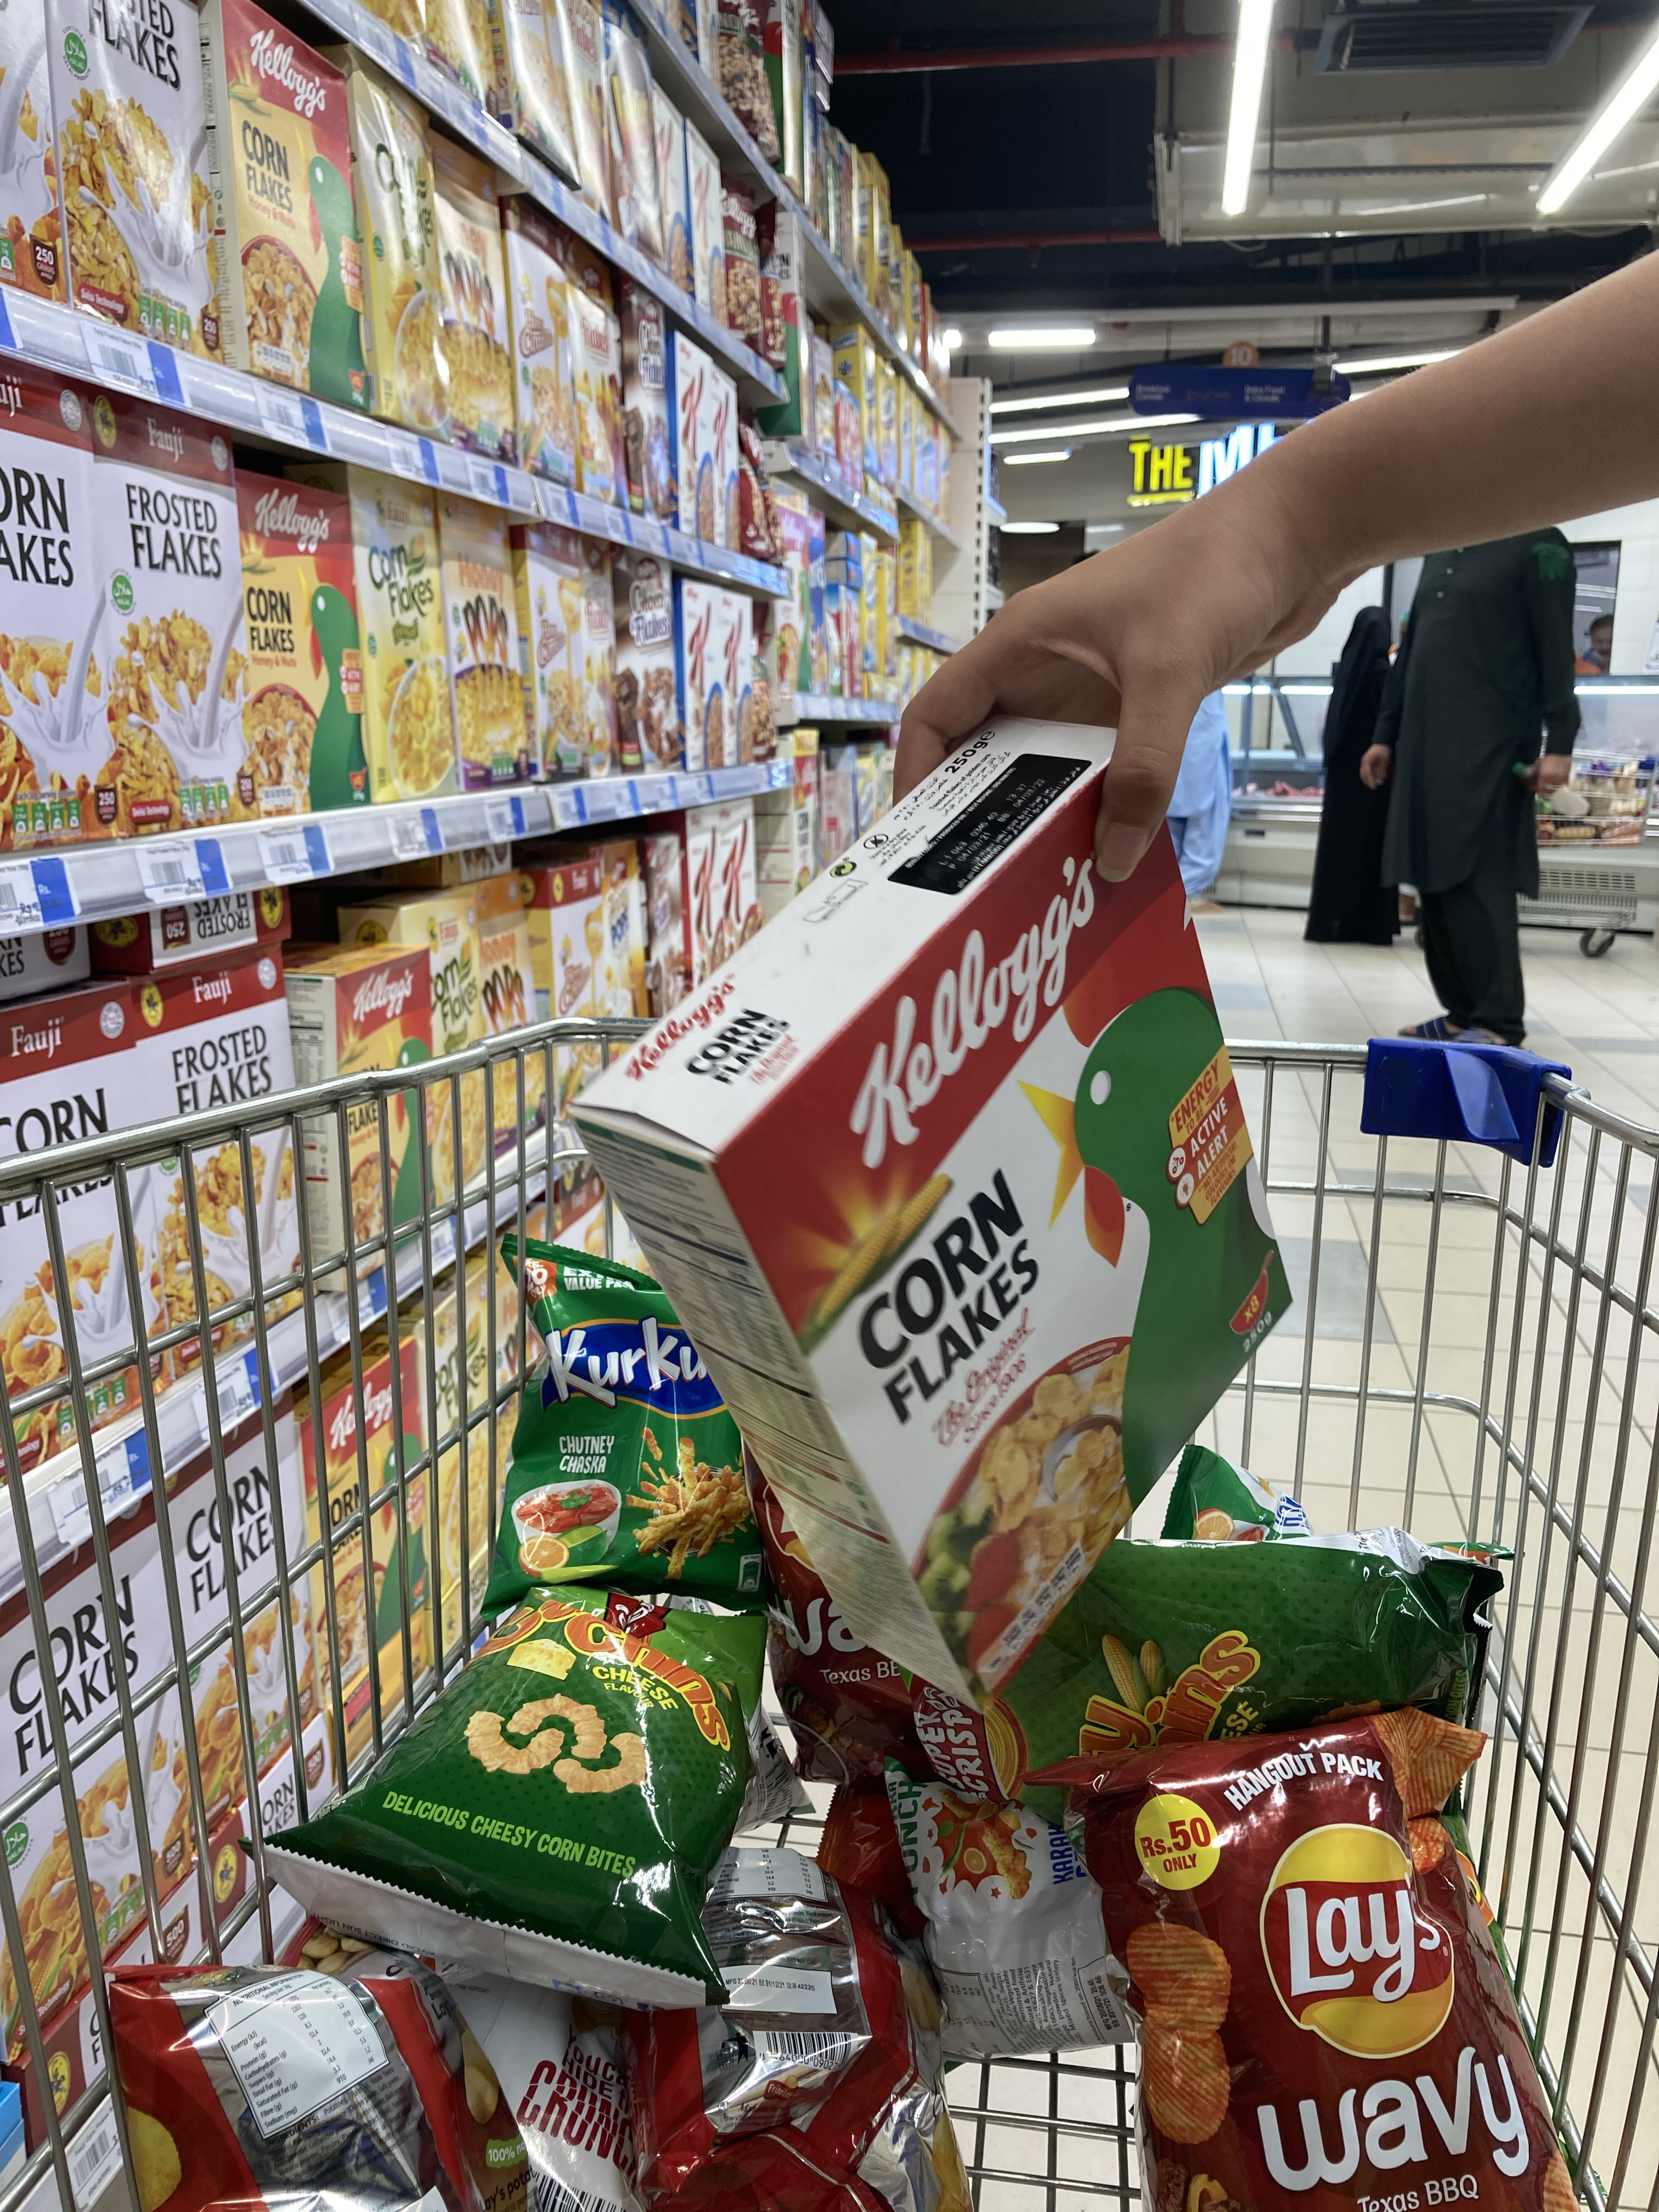Kellogg's Corn Flakes: (570, 808, 1309, 1712)
